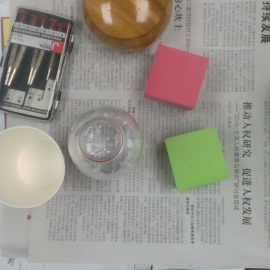bottle: (67, 106, 141, 179)
chess: (79, 1, 174, 49)
cup: (1, 128, 67, 209)
